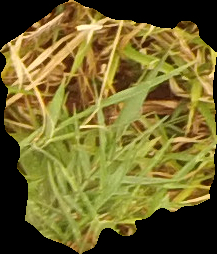grass: (1, 1, 216, 252)
